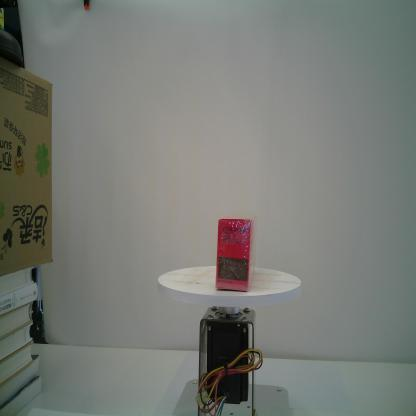Instant Drink: (215, 212, 258, 293)
